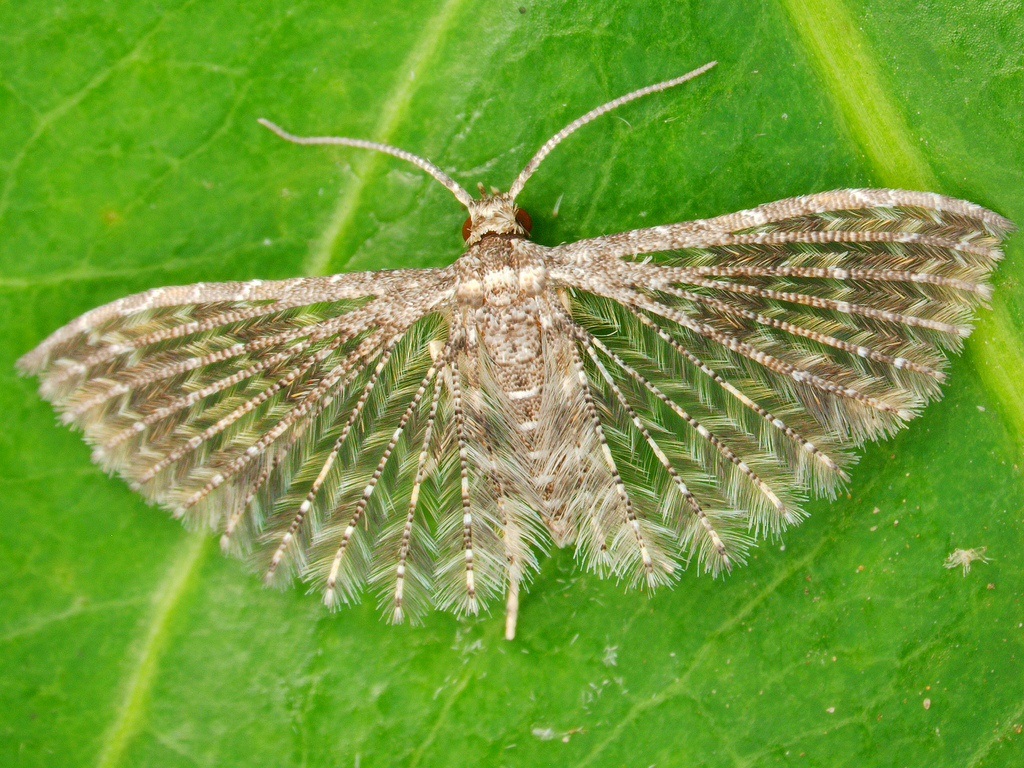Alucitidae: (19, 60, 1014, 652)
moth: (17, 58, 1012, 650)
